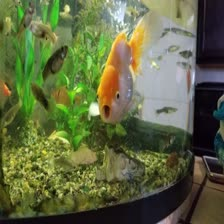Cuezo: (83, 10, 163, 126)
